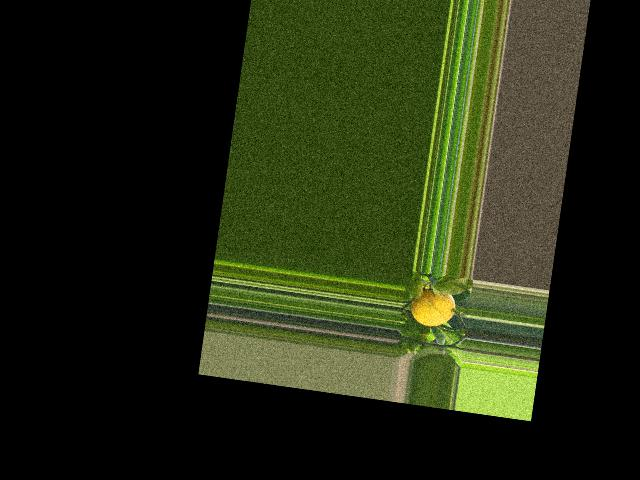lemon: (409, 281, 461, 332)
